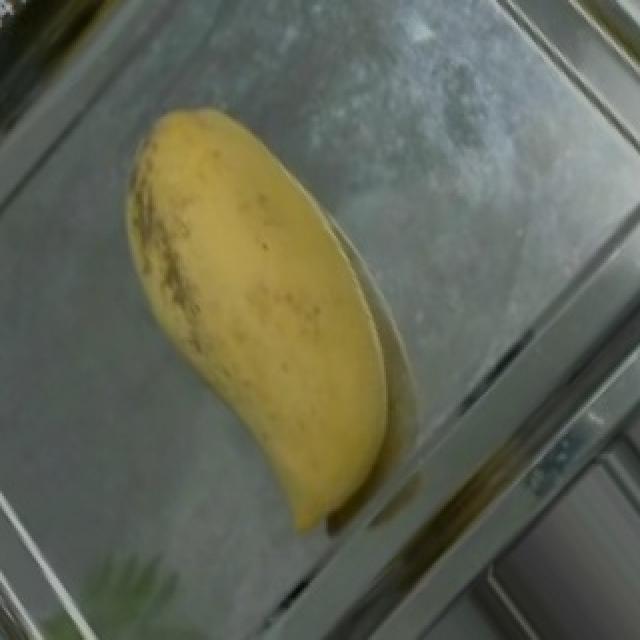fruit: (80, 72, 452, 504)
